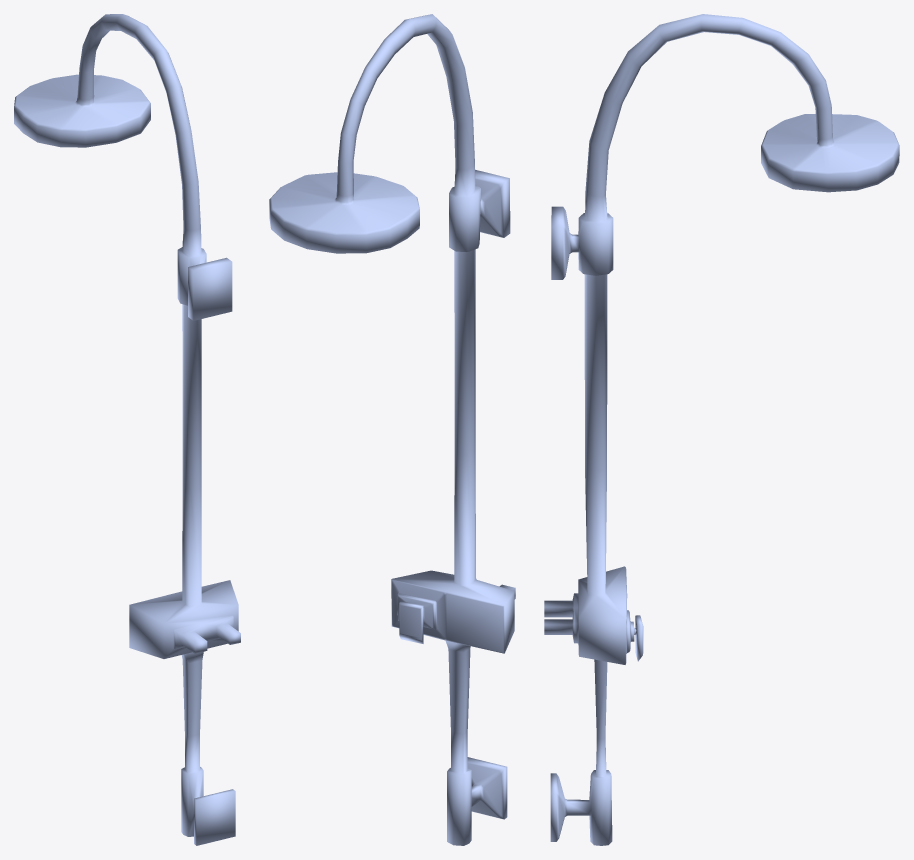
Rendered from Shower.fbx.
3 views of the same model, side by side, from view 1: azimuth 30°, elevation 25°; view 2: azimuth 150°, elevation 25°; view 3: azimuth 270°, elevation 25° (orthographic). The views are drawn at different scales.
Parts seen in each view (by area): view 1: Shower; view 2: Shower; view 3: Shower.
Part boxes in pixels (box(x1,y1,x2,y2)): Shower: box(14, 14, 240, 845); Shower: box(269, 14, 515, 845); Shower: box(544, 14, 899, 845).
Bounding box in the file's own units: 52.09 × 332 × 129.
